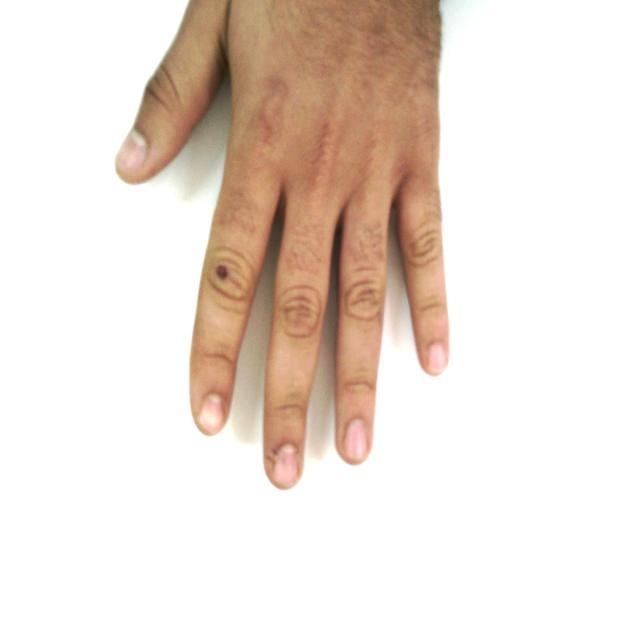Fingernail: (119, 131, 147, 169), (274, 445, 297, 487), (344, 420, 367, 460), (201, 395, 222, 432), (428, 343, 445, 372)
